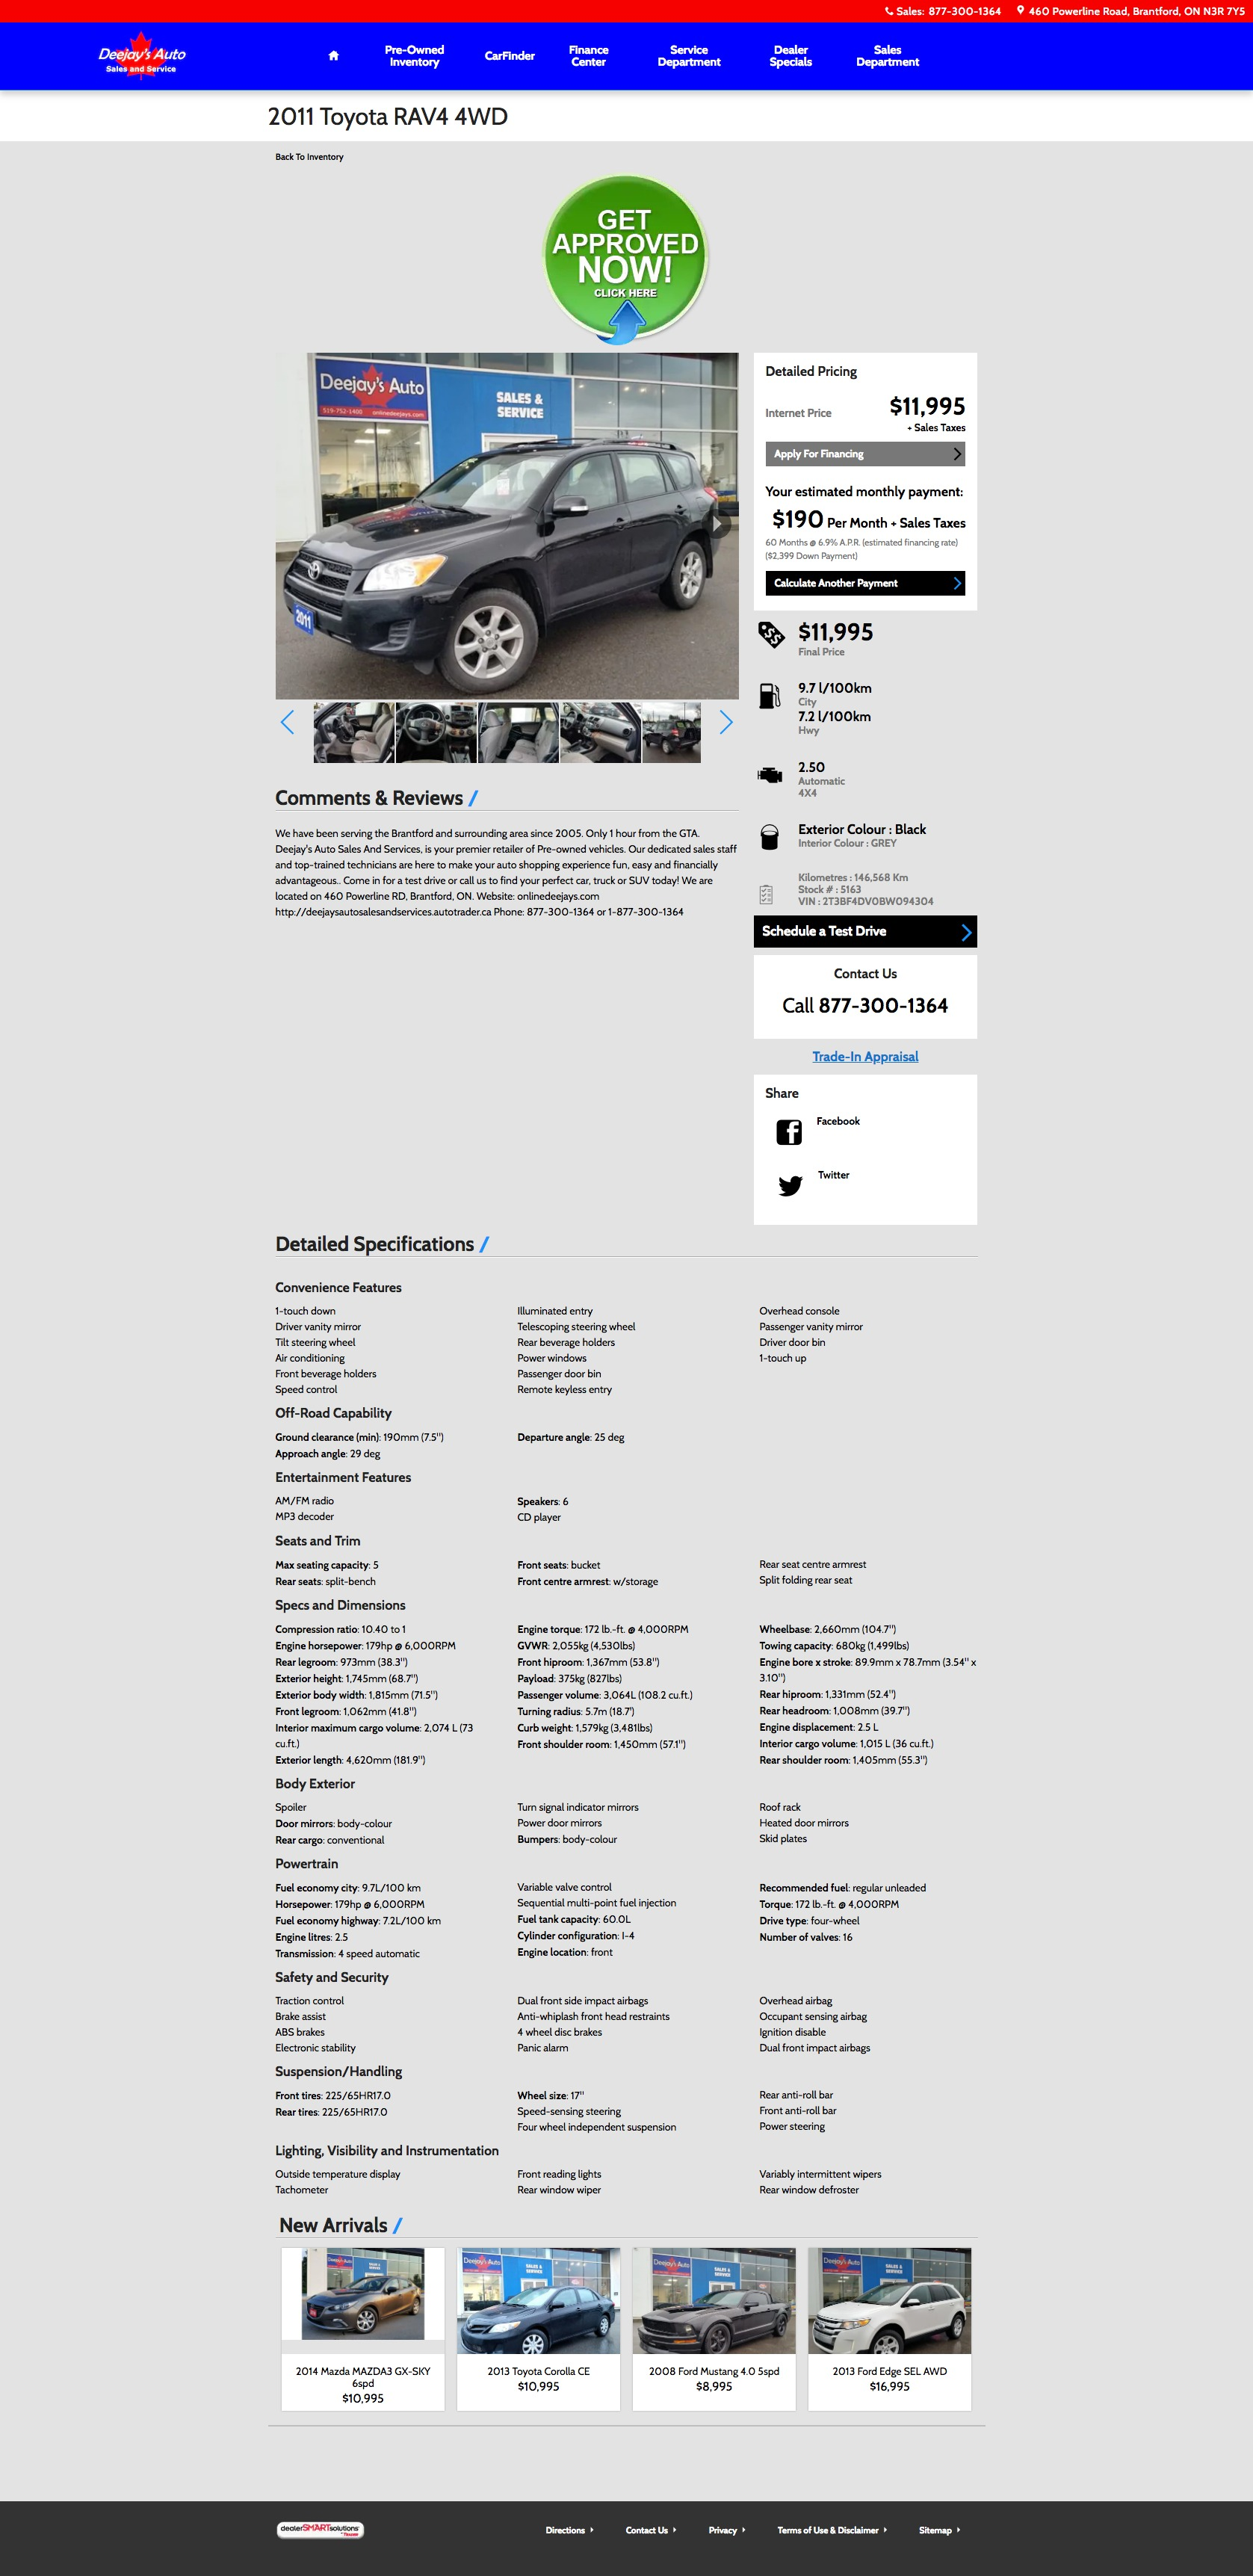car: (721, 710, 732, 736)
